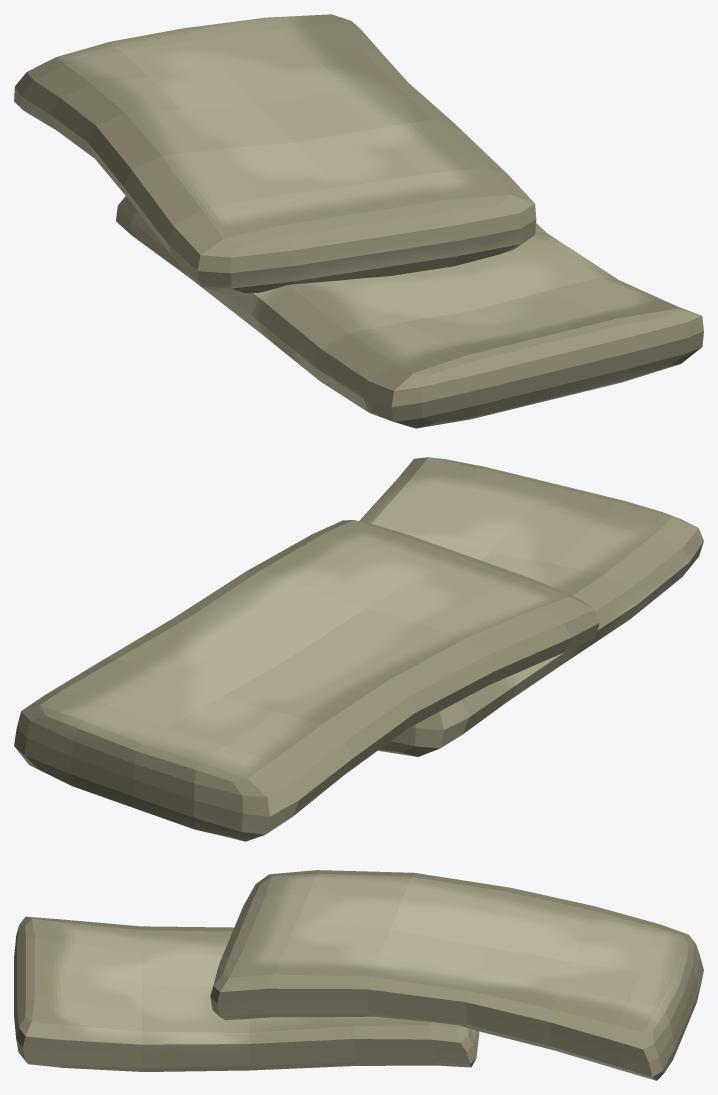
File: BedPillows_01.fbx
The picture shows the model from 3 angles, top to bottom: view 1: azimuth 30°, elevation 25°; view 2: azimuth 150°, elevation 25°; view 3: azimuth 270°, elevation 25°; orthographic projection. The views are drawn at different scales.
Parts seen in each view (by area): view 1: BedPillows_01; view 2: BedPillows_01; view 3: BedPillows_01.
Boxes of the visible parts, bbox=[...] form: BedPillows_01: bbox=[14, 14, 703, 428]; BedPillows_01: bbox=[14, 457, 703, 841]; BedPillows_01: bbox=[14, 870, 703, 1080].
Bounding box in the file's own units: 5.24 × 1.46 × 10.03.
